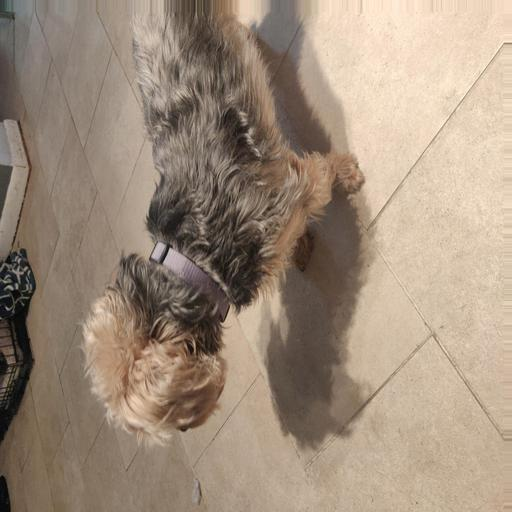dog: (83, 158, 362, 437)
